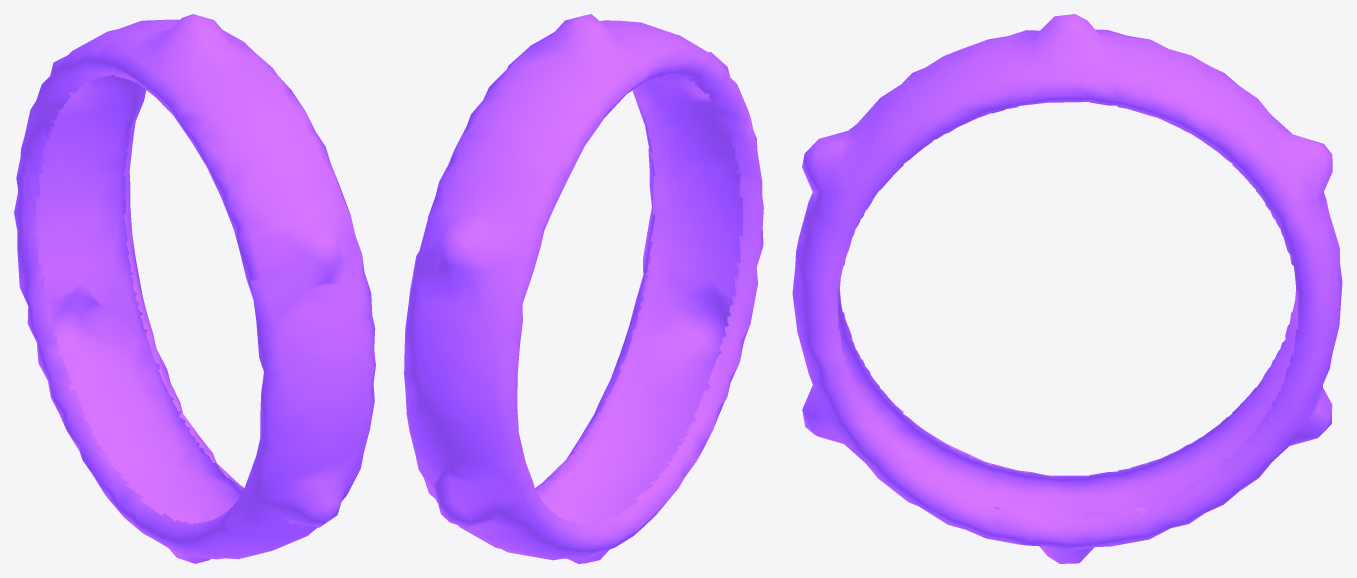
File: snowball_marker.glb
The picture shows the model from 3 angles, left to right: view 1: azimuth 30°, elevation 25°; view 2: azimuth 150°, elevation 25°; view 3: azimuth 270°, elevation 25°; orthographic projection.
Parts seen in each view (by area): view 1: snowball_marker; view 2: snowball_marker; view 3: snowball_marker.
Boxes of the visible parts, x1,y1,x2,y2 form: snowball_marker: (14,14,375,563); snowball_marker: (404,14,763,563); snowball_marker: (792,14,1342,563).
Bounding box in the file's own units: 0.1989 × 0.904 × 0.8201.
